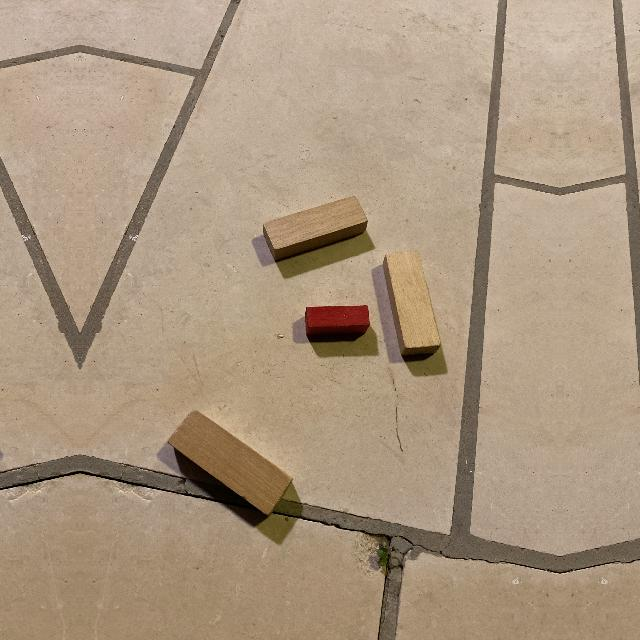jenga: (168, 411, 293, 516), (262, 196, 368, 261), (383, 252, 441, 356)
red block: (305, 305, 370, 335)
